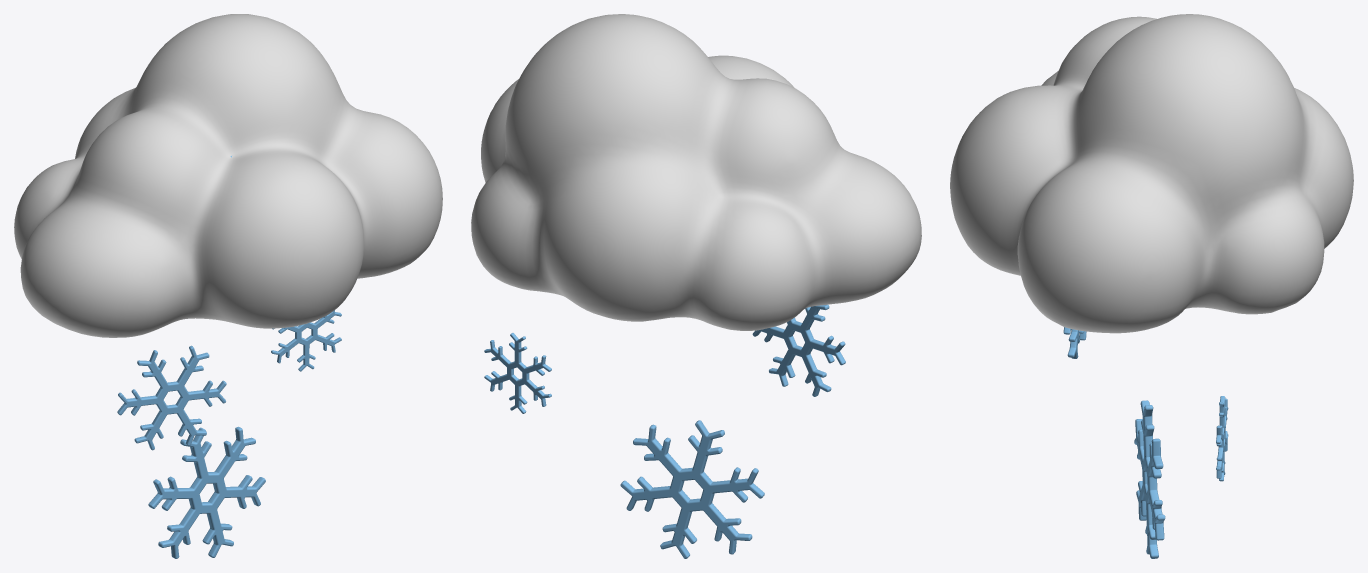
Rendered from snow.gltf.
The picture shows the model from 3 angles, left to right: view 1: azimuth 30°, elevation 25°; view 2: azimuth 150°, elevation 25°; view 3: azimuth 270°, elevation 25°; orthographic projection. The views are drawn at different scales.
Parts seen in each view (by area): view 1: snow.1; view 2: snow.1; view 3: snow.1.
Boxes of the visible parts, <box> form: snow.1: <box>14,14,442,558</box>; snow.1: <box>471,14,921,558</box>; snow.1: <box>950,14,1353,558</box>.
Size of the model in its own units: 16.47 by 20.18 by 13.36.
